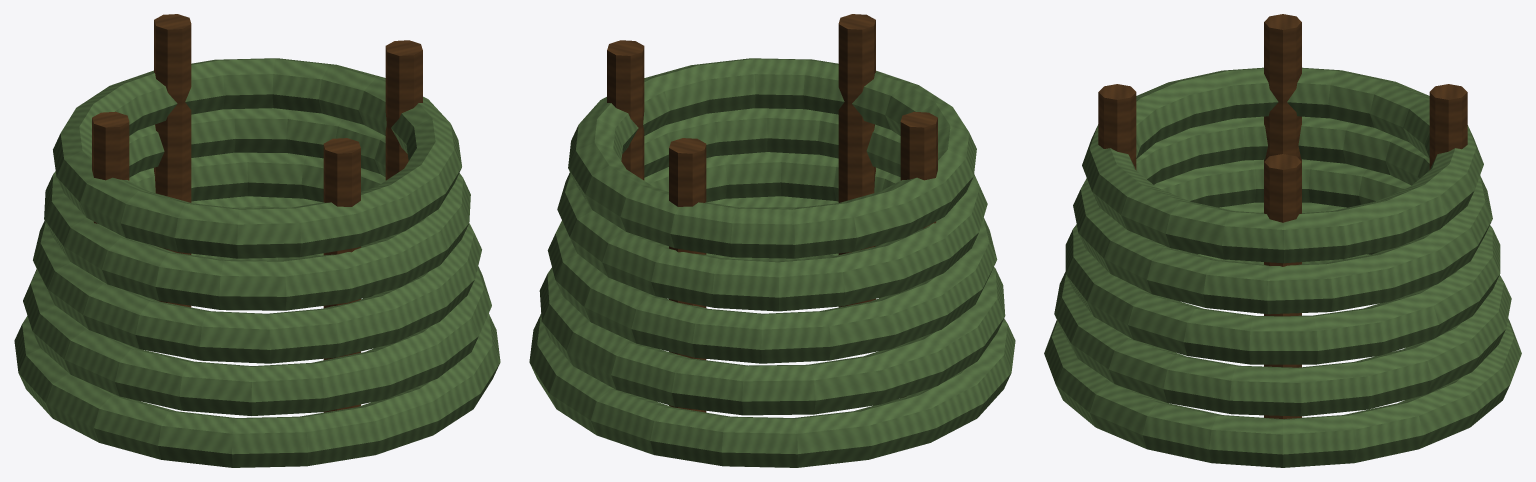
Rendered from underworld-refined-spire-cord.glb.
3 renders of one model, left to right at view 1: azimuth 30°, elevation 25°; view 2: azimuth 150°, elevation 25°; view 3: azimuth 270°, elevation 25°, orthographic. The views are drawn at different scales.
Parts seen in each view (by area): view 1: coil-4, coil-3, coil-2, coil-0, coil-1, tie-1, tie-0, tie-3, tie-2; view 2: coil-4, coil-3, coil-2, coil-0, coil-1, tie-3, tie-0, tie-1, tie-2; view 3: coil-4, coil-3, coil-2, coil-0, coil-1, tie-2, tie-0, tie-3, tie-1.
Boxes of the visible parts, <box> form: coil-4: <box>53,58,461,258</box>; coil-3: <box>44,108,470,310</box>; coil-2: <box>33,152,481,363</box>; coil-0: <box>14,253,500,467</box>; coil-1: <box>23,196,491,415</box>; tie-1: <box>154,14,191,307</box>; tie-0: <box>385,40,422,180</box>; tie-3: <box>323,138,360,412</box>; tie-2: <box>92,111,129,223</box>; coil-4: <box>568,58,976,258</box>; coil-3: <box>557,108,987,311</box>; coil-2: <box>547,152,997,363</box>; coil-0: <box>529,253,1015,467</box>; coil-1: <box>539,196,1005,415</box>; tie-3: <box>838,14,875,307</box>; tie-0: <box>607,40,644,180</box>; tie-1: <box>669,138,706,412</box>; tie-2: <box>900,111,937,397</box>; coil-4: <box>1082,67,1483,263</box>; coil-3: <box>1073,116,1492,314</box>; coil-2: <box>1065,159,1500,364</box>; coil-0: <box>1044,254,1521,467</box>; coil-1: <box>1054,202,1511,416</box>; tie-2: <box>1264,14,1301,161</box>; tie-0: <box>1264,154,1301,418</box>; tie-3: <box>1098,84,1136,170</box>; tie-1: <box>1429,84,1467,169</box>.
Bounding box in the file's own units: 0.202 × 0.133 × 0.202.
2 materials, 2 textured.
